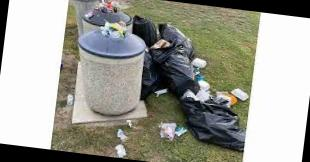trash: (118, 7, 257, 157), (153, 118, 191, 146)
trash_can_overflow: (55, 0, 193, 131)
